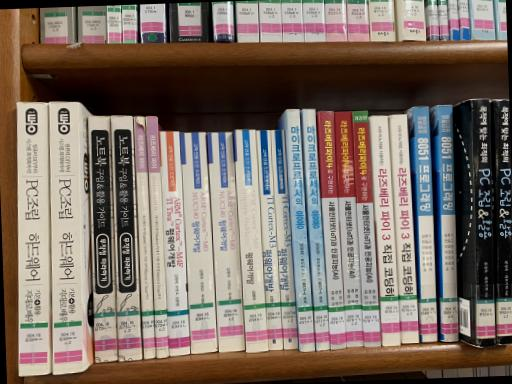book-spine: (49, 102, 83, 374), (17, 101, 48, 376), (207, 132, 245, 352), (180, 132, 217, 353), (235, 129, 268, 352), (111, 116, 141, 361), (158, 131, 190, 356), (89, 116, 117, 362), (335, 111, 364, 347), (287, 108, 315, 351), (371, 115, 400, 346), (391, 114, 419, 343), (353, 110, 380, 346), (303, 109, 329, 350), (320, 111, 346, 349), (271, 129, 298, 349), (256, 129, 282, 350), (472, 98, 495, 346), (413, 106, 437, 341), (146, 116, 169, 358), (134, 116, 155, 359), (438, 105, 458, 340), (496, 99, 512, 344)
